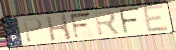E: (141, 4, 170, 34)
F: (69, 11, 94, 41), (118, 7, 142, 35)
H: (44, 13, 73, 43)
P: (21, 16, 44, 44)
R: (93, 10, 122, 38)
